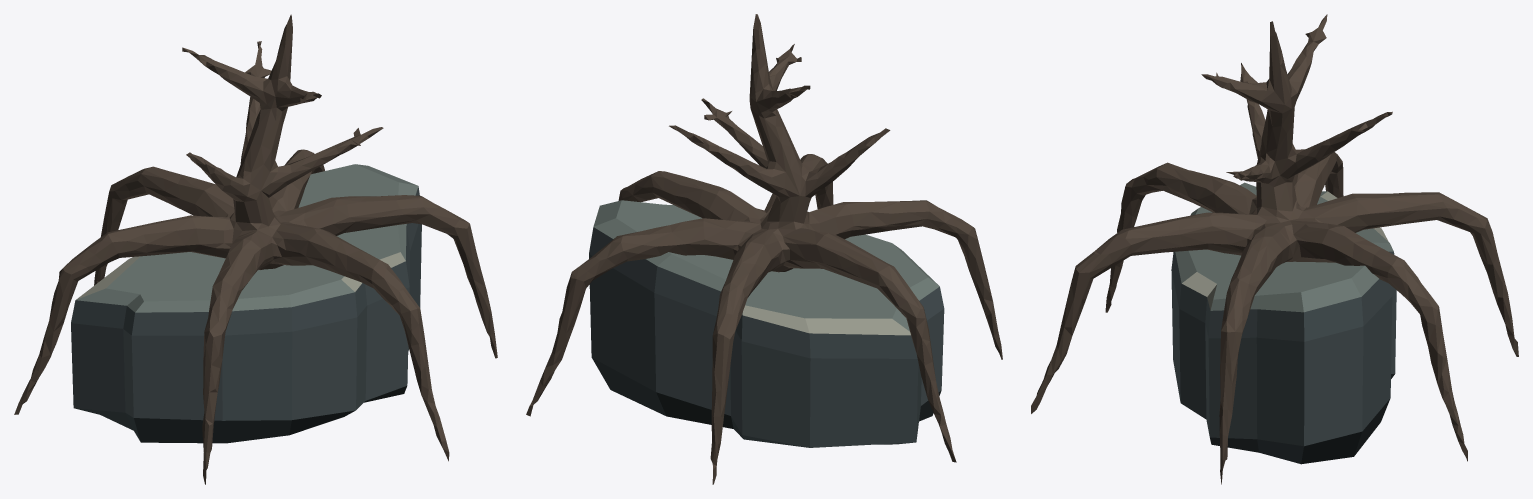
The model's file is BASALT_ROOT_SHRUB.hi.glb.
3 renders of one model, left to right at view 1: azimuth 30°, elevation 25°; view 2: azimuth 150°, elevation 25°; view 3: azimuth 270°, elevation 25°, orthographic. The views are drawn at different scales.
Parts seen in each view (by area): view 1: BASALT_ROOT_SHRUB; view 2: BASALT_ROOT_SHRUB; view 3: BASALT_ROOT_SHRUB.
Part boxes in pixels (x1,y1,x2,y2): BASALT_ROOT_SHRUB: (14,14,497,484); BASALT_ROOT_SHRUB: (526,14,1002,484); BASALT_ROOT_SHRUB: (1031,14,1518,484).
Size of the model in its own units: 0.8856 by 0.7584 by 0.8764.
1 material, 1 textured.
